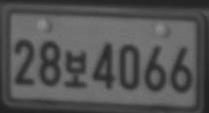0: (118, 43, 140, 89)
2: (14, 38, 34, 85)
4: (91, 43, 115, 89)
6: (144, 45, 166, 92), (170, 46, 192, 93)
8: (39, 40, 61, 85)
보: (64, 50, 88, 87)
